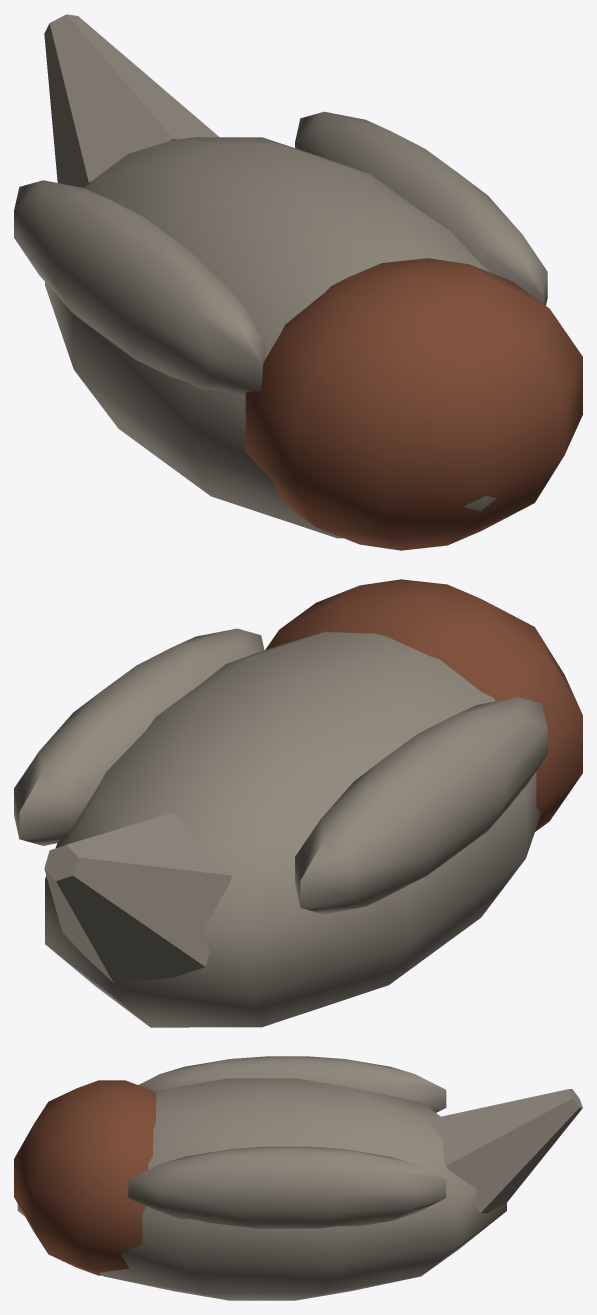
File: Duck_Body.fbx
3 renders of one model, top to bottom at view 1: azimuth 30°, elevation 25°; view 2: azimuth 150°, elevation 25°; view 3: azimuth 270°, elevation 25°, orthographic. The views are drawn at different scales.
Parts seen in each view (by area): view 1: Duck_Body_EXP; view 2: Duck_Body_EXP; view 3: Duck_Body_EXP.
Part boxes in pixels (x1,y1,x2,y2): Duck_Body_EXP: [14, 14, 582, 550]; Duck_Body_EXP: [14, 579, 582, 1027]; Duck_Body_EXP: [14, 1056, 582, 1300].
Size of the model in its own units: 0.2256 by 0.1733 by 0.4535.
